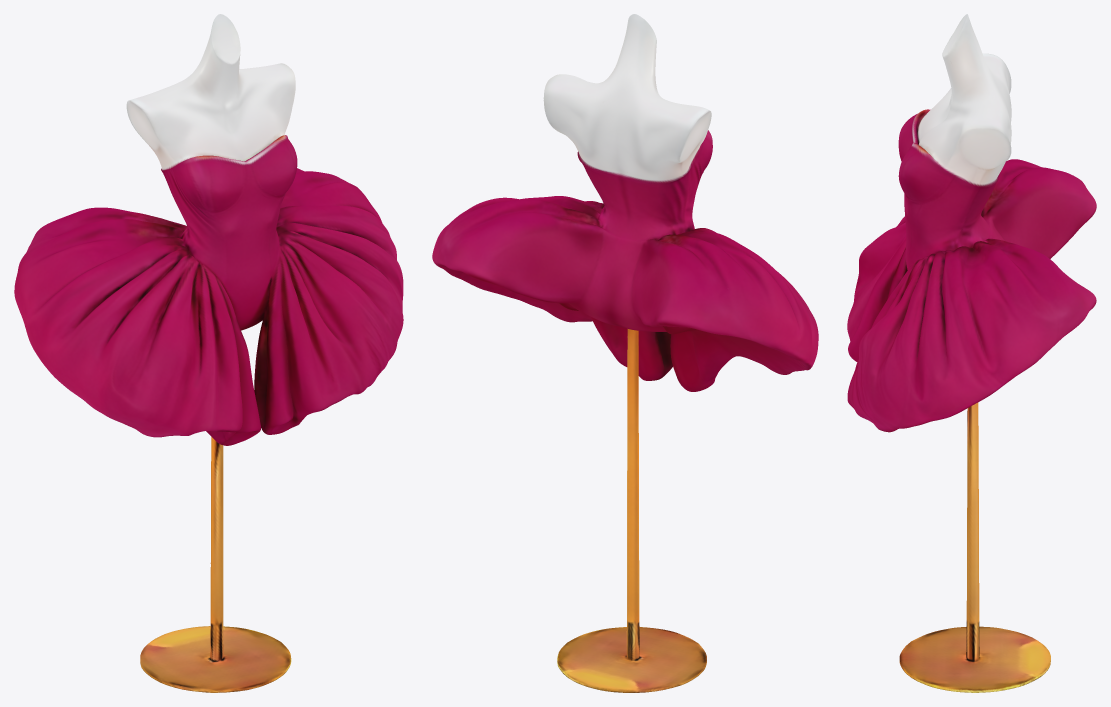
Rendered from base_basic_shaded.fbx.
3 renders of one model, left to right at view 1: azimuth 30°, elevation 25°; view 2: azimuth 150°, elevation 25°; view 3: azimuth 270°, elevation 25°, orthographic.
Visible parts, largest first — view 1: model; view 2: model; view 3: model.
Part boxes in pixels (box(x1,y1,x2,y2)): model: box(14, 14, 403, 692); model: box(432, 14, 818, 692); model: box(847, 14, 1096, 692).
Bounding box in the file's own units: 109 × 189 × 65.99.
